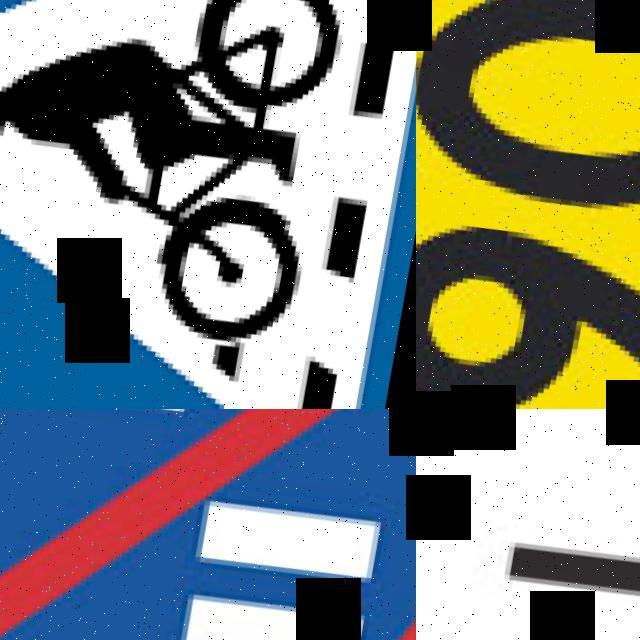19: (0, 0, 416, 409)
20: (0, 409, 416, 640)
66: (416, 409, 640, 640)
speed limit-90: (416, 0, 640, 409)
